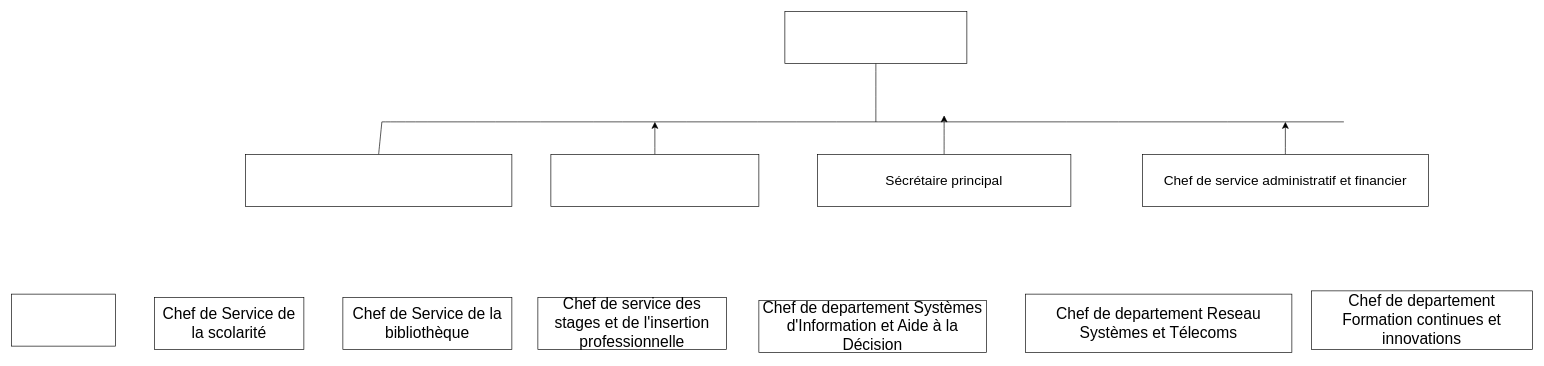
Some shapes in this 1544 by 366 pixel diagram are drawn without their labels. The shapes that lost their labels are listed below. From the top down, each one's centre as x and y in pixels, then its label:
point 875,37: Directrice
point 378,180: Directeur adjoint
point 654,180: Sécrétaire de direction
point 63,319: Sécrétaire
